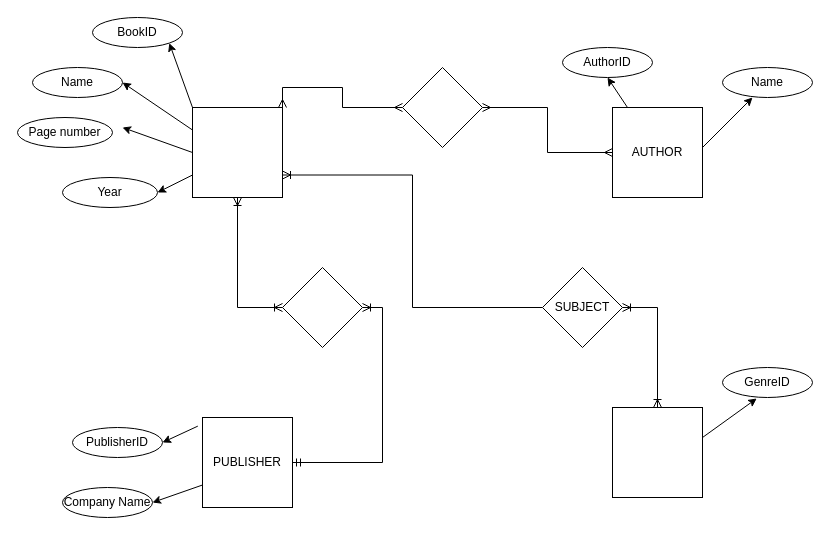
Image size: 830x535. Some labels were removed from this diagram. The centre of each missing label's shape, as x and y in pixels:
"BOOK" belongs at (x=237, y=152).
"By" belongs at (x=442, y=107).
"GENRE" belongs at (x=657, y=452).
"Publish" belongs at (x=322, y=307).
